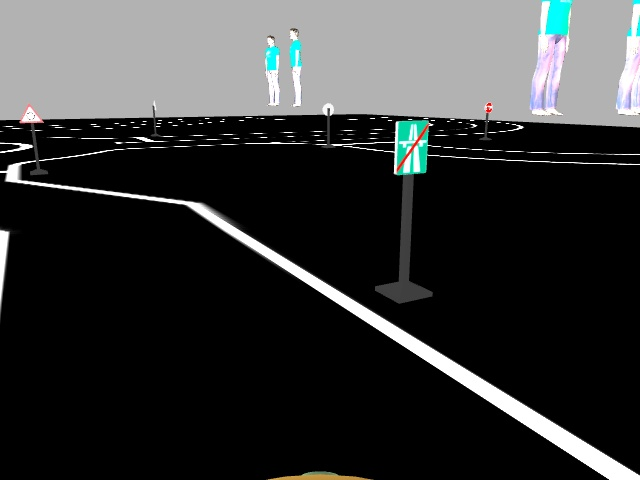HighwayExit: (392, 120, 428, 175)
